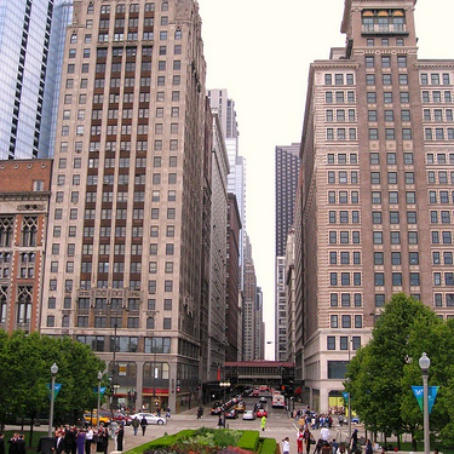building: (295, 1, 454, 395), (66, 1, 194, 405), (206, 99, 240, 379), (1, 151, 54, 326), (1, 1, 55, 156)
light pole: (407, 349, 440, 454), (40, 359, 63, 430)
sky: (206, 1, 300, 320)
tree: (340, 300, 454, 435), (11, 334, 108, 432)
